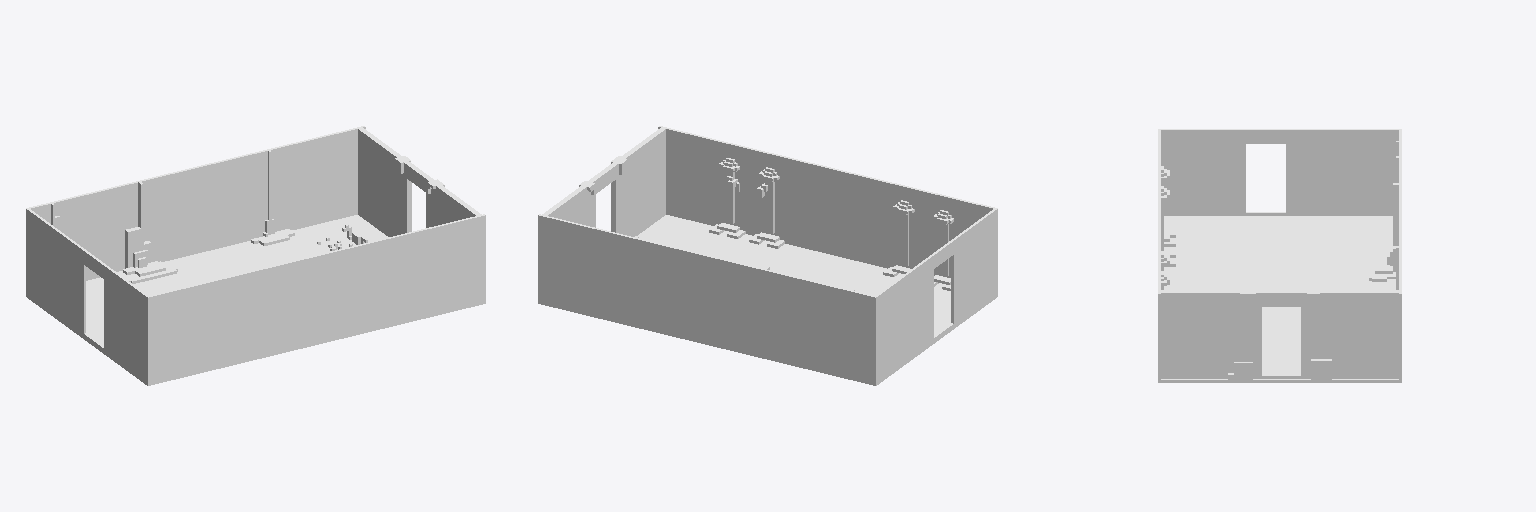
Rendered from hell_room.vox.obj.
The picture shows the model from 3 angles: view 1: azimuth 30°, elevation 25°; view 2: azimuth 150°, elevation 25°; view 3: azimuth 270°, elevation 25°; orthographic projection.
Visible parts, largest first — view 1: object 1; view 2: object 1; view 3: object 1.
Part boxes in pixels (left/top/right/bottom): object 1: left=26, top=126, right=485, bottom=385; object 1: left=538, top=126, right=997, bottom=385; object 1: left=1158, top=129, right=1401, bottom=382.
Bounding box in the file's own units: 12.8 × 3.2 × 8.